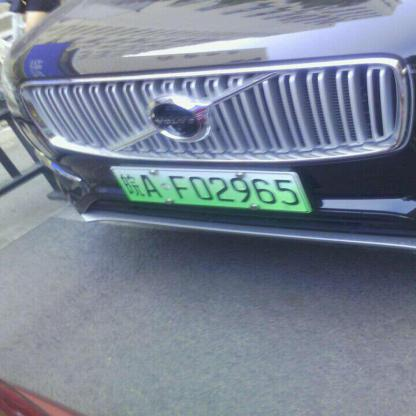lp: (110, 167, 308, 210)
